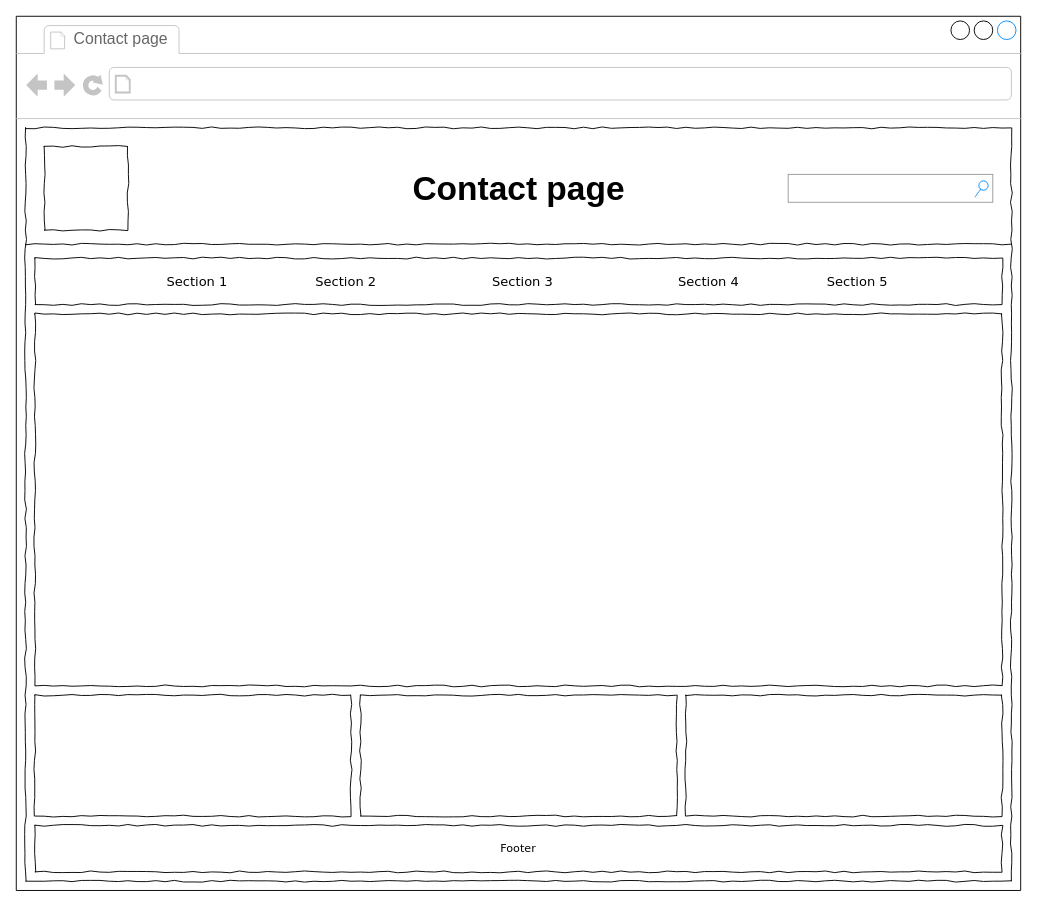
This 1037x907 diagram has some shape labels left out. The shapes that lost their labels are listed below. From the top down, each one's centre as x and y in pixels, then its label:
(253,83): https://nikozyl.github.io/JXU/aboutuspage
(85,188): LOGO
